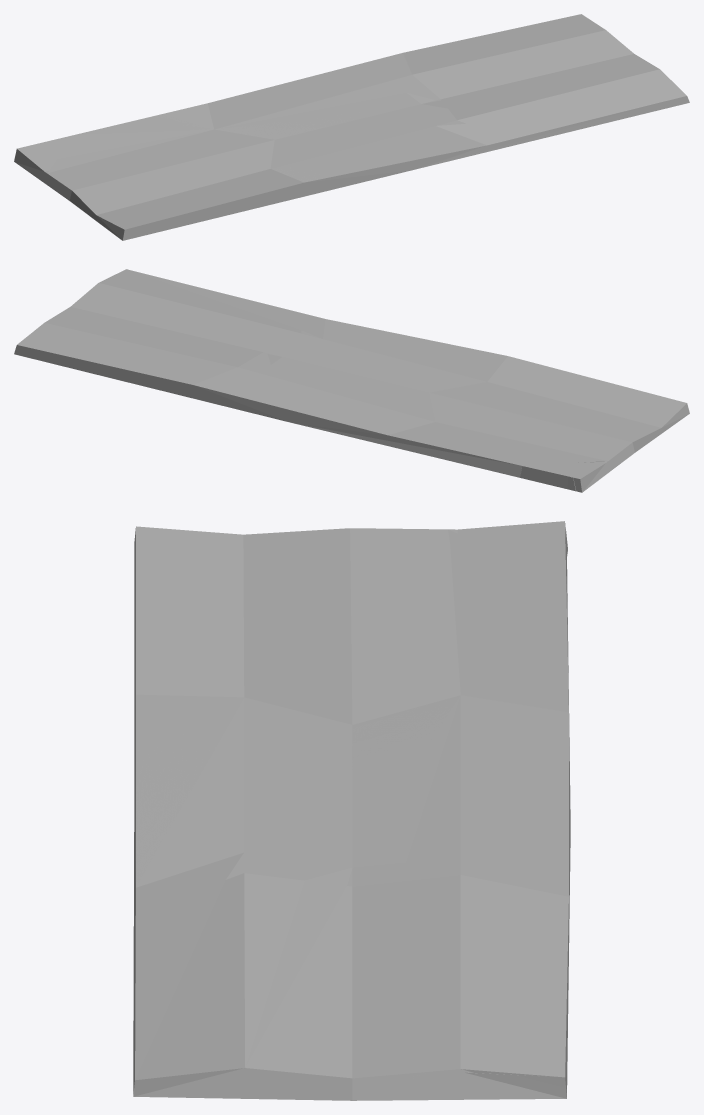
The model's file is bz_asp_01.fbx.
The picture shows the model from 3 angles, top to bottom: view 1: azimuth 30°, elevation 25°; view 2: azimuth 150°, elevation 25°; view 3: azimuth 270°, elevation 25°; orthographic projection. The views are drawn at different scales.
Visible parts, largest first — view 1: bz_asp_01, bz_asp_03; view 2: bz_asp_01, bz_asp_03; view 3: bz_asp_01, bz_asp_03.
Boxes of the visible parts, x1,y1,x2,y2 form: bz_asp_01: (14, 14, 689, 240); bz_asp_03: (47, 69, 685, 189); bz_asp_01: (14, 269, 689, 492); bz_asp_03: (100, 269, 629, 491); bz_asp_01: (133, 521, 570, 1100); bz_asp_03: (134, 528, 570, 1099).
Bounding box in the file's own units: 2.97 × 0.0782 × 0.9884.
